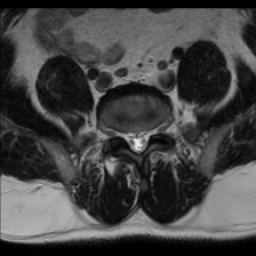CCS_normal: (134, 123, 142, 160)
LFS_stenosis: (150, 116, 158, 142)
LLS_normal: (142, 122, 150, 155)
RFS_stenosis: (116, 121, 124, 145)
RLS_normal: (124, 124, 134, 154)
